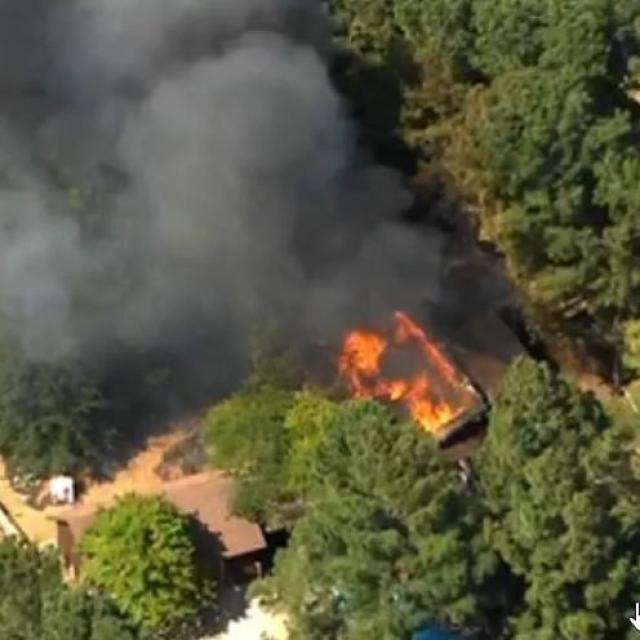Fire: (323, 288, 475, 451)
Smoke: (0, 0, 544, 390)
